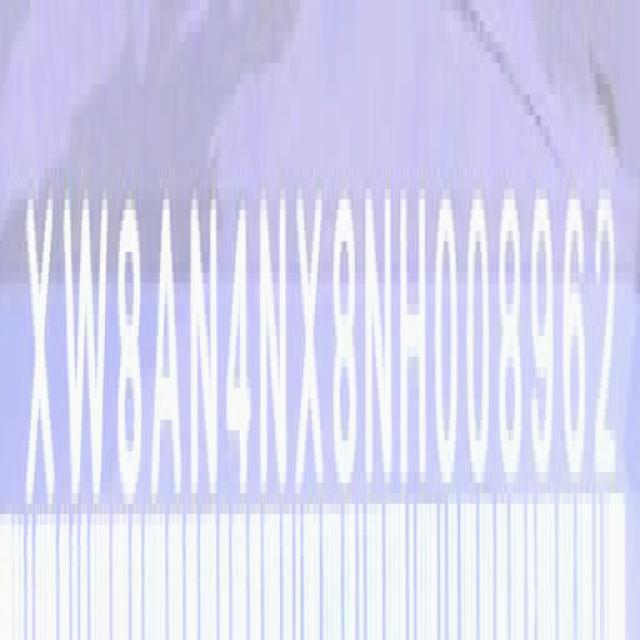0: (433, 187, 462, 490), (465, 191, 492, 492)
2: (594, 189, 621, 486)
4: (226, 187, 253, 508)
6: (563, 190, 588, 486)
8: (117, 195, 145, 518), (333, 187, 360, 497), (498, 182, 522, 498)
9: (529, 190, 556, 486)
A: (150, 195, 182, 517)
H: (396, 163, 428, 509)
N: (259, 179, 289, 505), (363, 167, 393, 490), (188, 187, 219, 498)
W: (66, 190, 112, 524)
X: (28, 194, 58, 527), (298, 177, 328, 501)
